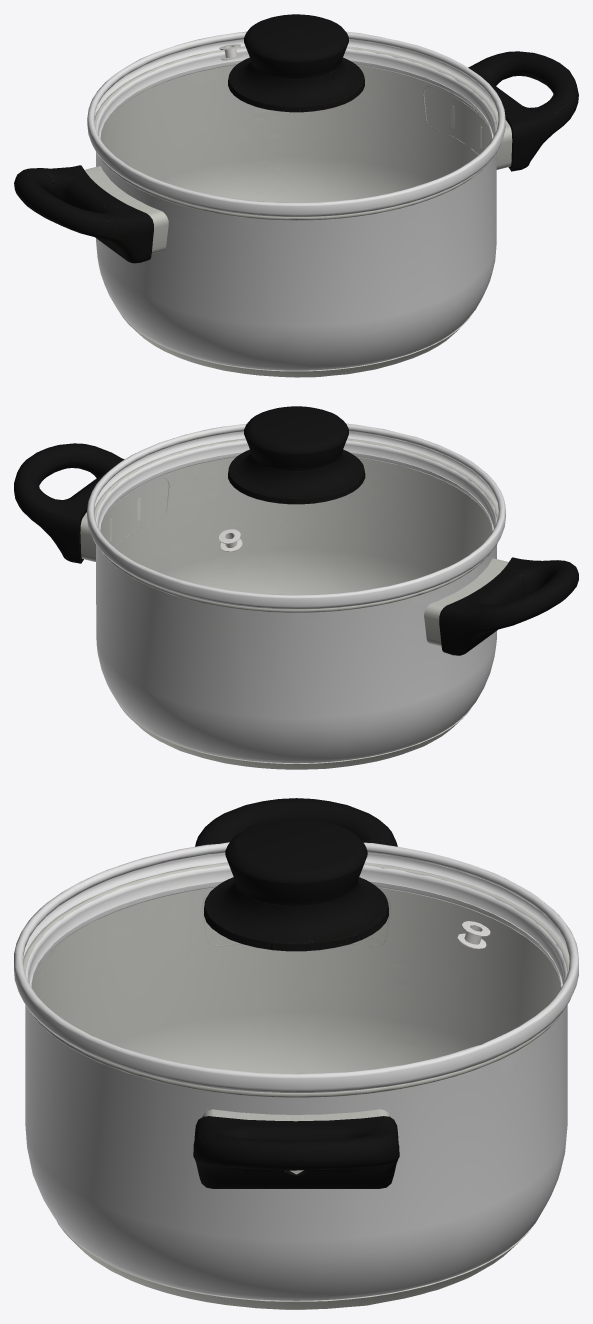
File: Annons80298474.glb
3 views of the same model, one above another, from view 1: azimuth 30°, elevation 25°; view 2: azimuth 150°, elevation 25°; view 3: azimuth 270°, elevation 25° (orthographic). The views are drawn at different scales.
Visible parts, largest first — view 1: 1; view 2: 1; view 3: 1.
Boxes of the visible parts, x1=… form: 1: x1=14, y1=14, x2=578, y2=377; 1: x1=14, y1=406, x2=578, y2=769; 1: x1=14, y1=798, x2=578, y2=1309.
Bounding box in the file's own units: 0.3107 × 0.1506 × 0.2095.
2 materials, 1 textured.
